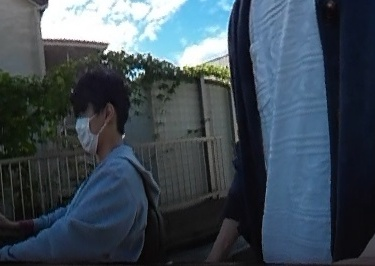person: (51, 69, 145, 266)
